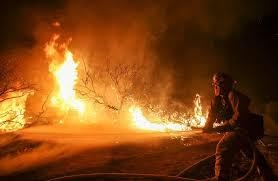fire: (125, 94, 207, 132), (44, 44, 87, 115), (187, 92, 209, 127)
